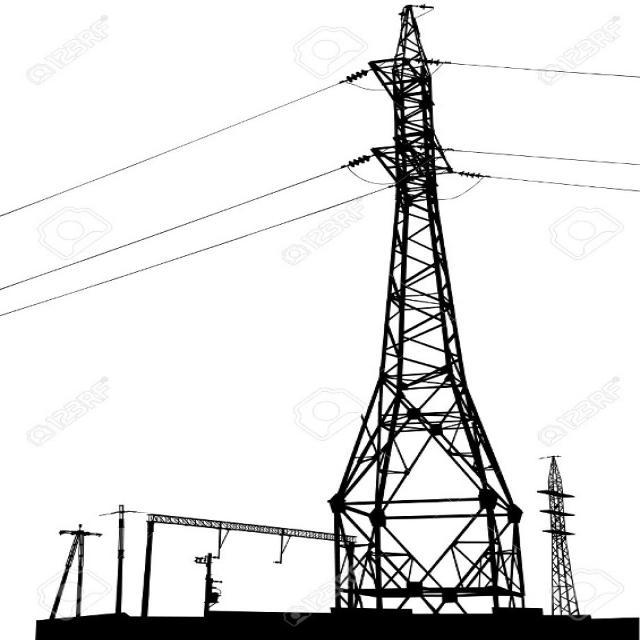non-critical vegetation: (330, 11, 526, 615), (536, 452, 594, 619)
